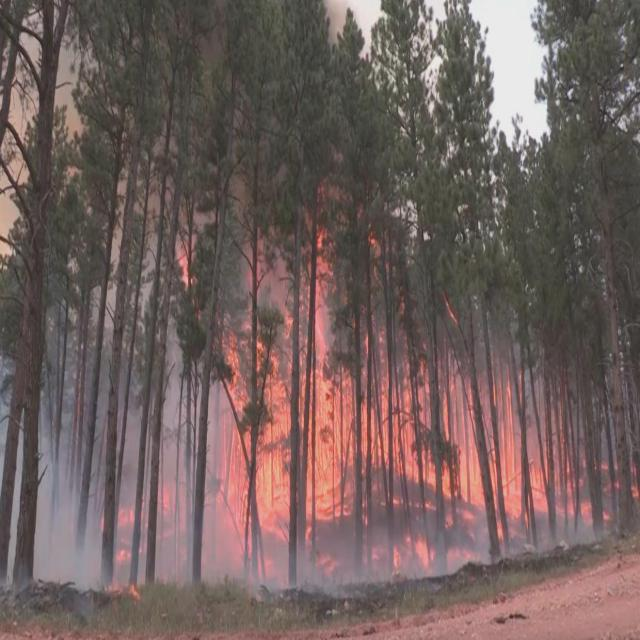smoke: (41, 514, 102, 585), (162, 444, 193, 582), (206, 522, 250, 581), (254, 542, 286, 583)
